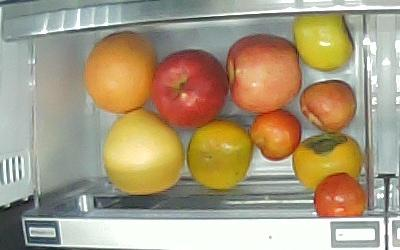apple: (223, 33, 302, 114), (151, 50, 230, 129)
grapefruit: (100, 106, 182, 193), (81, 31, 158, 114)
persimmon: (187, 121, 253, 190), (291, 133, 364, 191), (293, 13, 355, 73)
prune: (299, 78, 357, 133), (247, 109, 302, 161), (313, 172, 366, 217)
